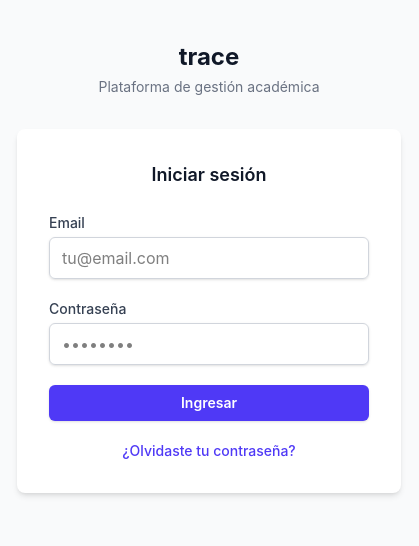
Test: LoginPage › shows error message when credentials are invalid
The width and height of the screenshot is (419, 546).
# Fill form
Type "wrong@example.com" into the field labelled "Email" at (209, 258), box [49,237,369,279]
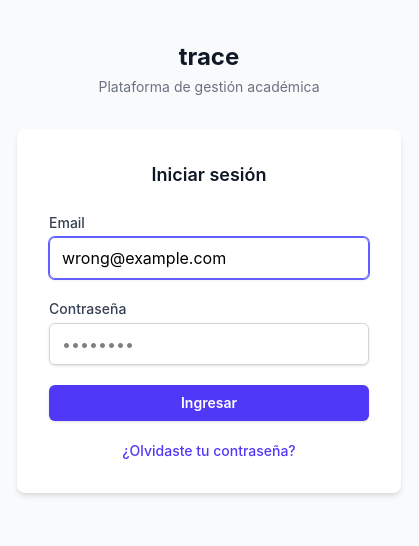
Type "wrongpass" into the password field labelled "Contraseña" at (209, 344), box [49,323,369,365]
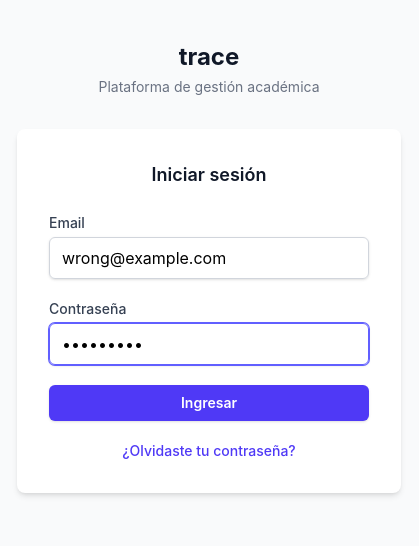
Click the button "Ingresar" at (209, 403), box [49,385,369,421]
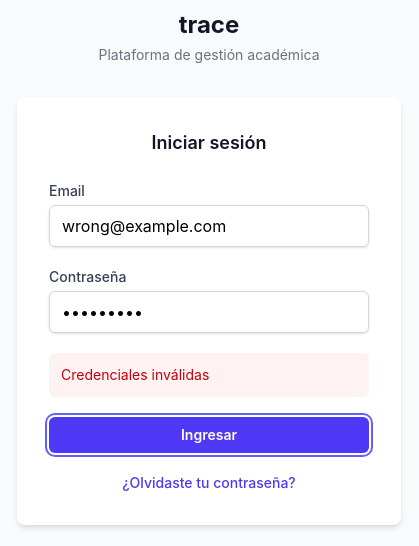
Check: the text "Credenciales inválidas" is shown, box [49,353,369,397]
